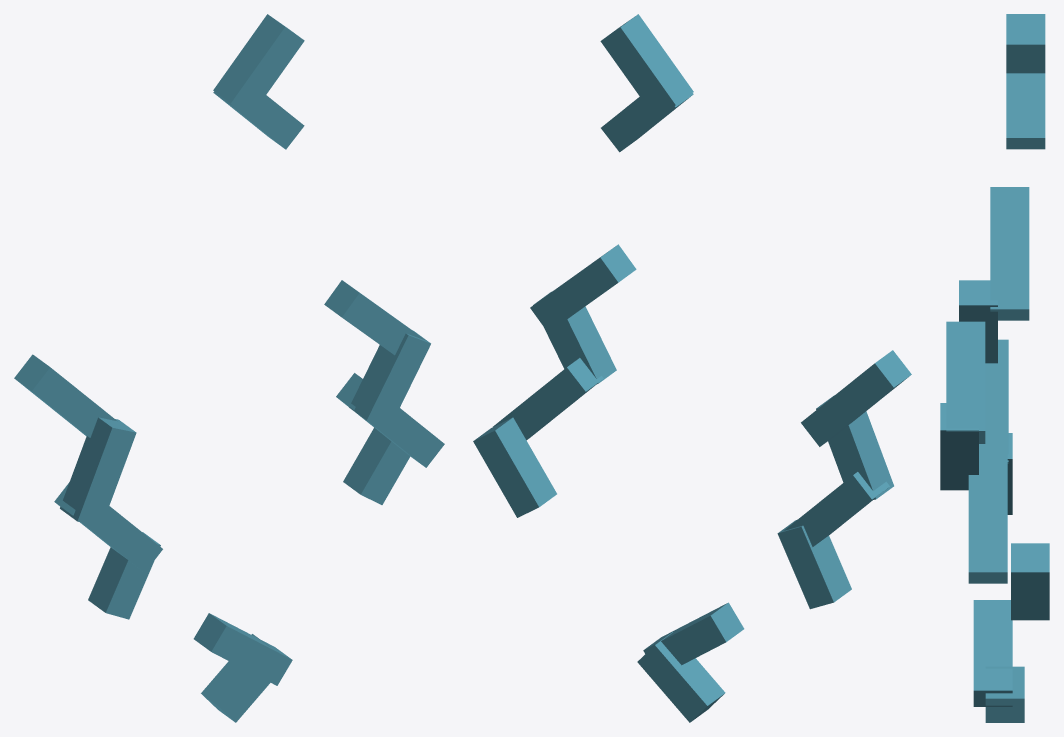
File: crack.glb
3 views of the same model, side by side, from view 1: azimuth 30°, elevation 25°; view 2: azimuth 150°, elevation 25°; view 3: azimuth 270°, elevation 25° (orthographic). The views are drawn at different scales.
Parts seen in each view (by area): view 1: Crack1, Crack8, Crack5, Crack10, Crack0, Crack7, Crack4, Crack3, Crack2, Crack6, Crack11, Crack9; view 2: Crack8, Crack7, Crack0, Crack3, Crack4, Crack11, Crack6, Crack1, Crack2, Crack10, Crack5, Crack9; view 3: Crack0, Crack6, Crack4, Crack10, Crack9, Crack7, Crack5, Crack2, Crack8, Crack1, Crack11, Crack3.
Part boxes in pixels (box(x1,y1,x2,y2)): Crack1: box(60, 417, 136, 526); Crack8: box(213, 14, 304, 116); Crack5: box(349, 330, 430, 428); Crack10: box(193, 613, 292, 685); Crack0: box(14, 354, 117, 437); Crack7: box(343, 427, 410, 504); Crack4: box(324, 280, 426, 355); Crack3: box(88, 532, 160, 619); Crack2: box(54, 482, 162, 572); Crack6: box(336, 373, 444, 467); Crack11: box(201, 634, 270, 722); Crack9: box(213, 82, 304, 149); Crack8: box(600, 14, 693, 118); Crack7: box(473, 417, 556, 517); Crack0: box(801, 350, 911, 446); Crack3: box(777, 520, 851, 609); Crack4: box(530, 244, 636, 332); Crack11: box(637, 632, 725, 722); Crack6: box(493, 358, 603, 440); Crack1: box(816, 395, 893, 500); Crack2: box(784, 472, 889, 546); Crack10: box(643, 602, 744, 665); Crack5: box(533, 291, 616, 383); Crack9: box(601, 83, 693, 152); Crack0: box(990, 187, 1029, 320); Crack6: box(968, 449, 1007, 583); Crack4: box(946, 321, 985, 443); Crack10: box(973, 600, 1012, 706); Crack9: box(1006, 73, 1045, 149); Crack7: box(1011, 543, 1049, 620); Crack5: box(940, 403, 978, 490); Crack2: box(979, 339, 1008, 463); Crack8: box(1006, 14, 1045, 73); Crack1: box(959, 280, 997, 363); Crack11: box(985, 666, 1024, 722); Crack3: box(1007, 433, 1012, 514).
Bounding box in the file's own units: 0.9179 × 1.47 × 0.197.
